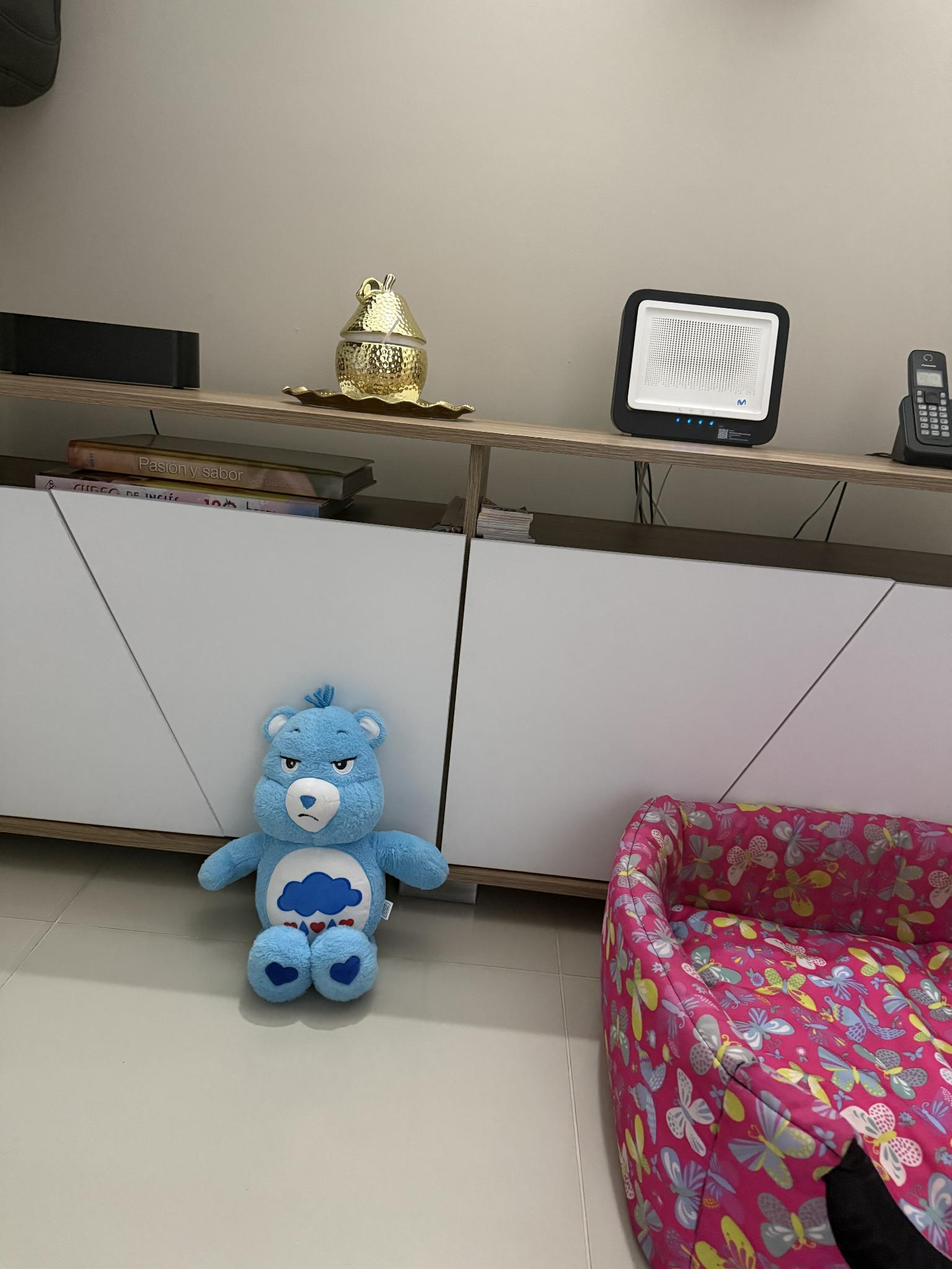peluche_Juan Jose: (189, 686, 453, 1015)
